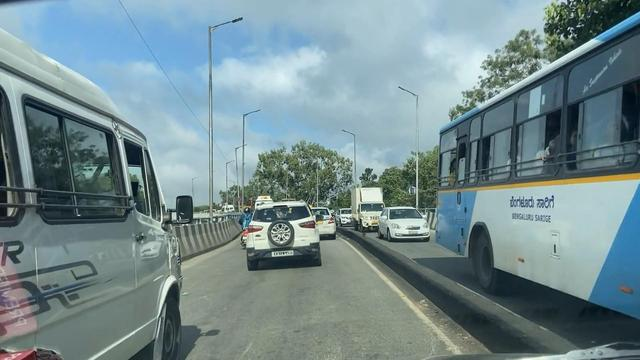LMV: (245, 204, 321, 264)
